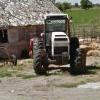Tractor: (21, 4, 89, 78)
